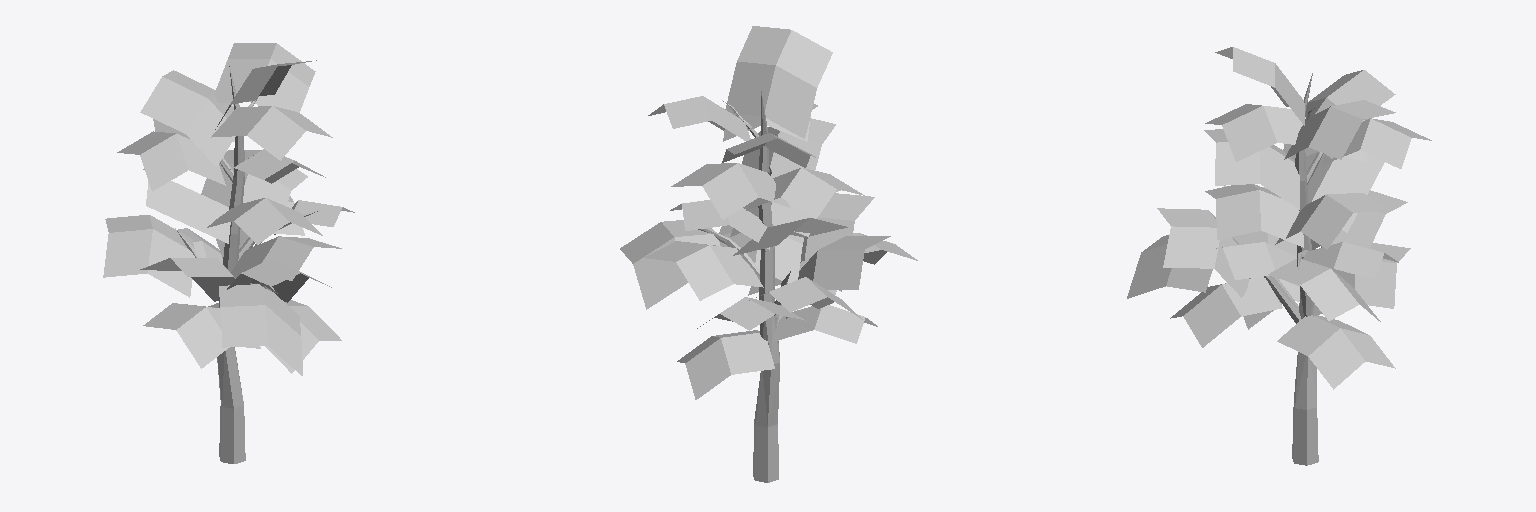
File: tree16.obj
3 views of the same model, side by side, from view 1: azimuth 30°, elevation 25°; view 2: azimuth 150°, elevation 25°; view 3: azimuth 270°, elevation 25° (orthographic).
Parts seen in each view (by area): view 1: treeDark4:null_ pasted__pasted__group53 pasted__group54 group55; view 2: treeDark4:null_ pasted__pasted__group53 pasted__group54 group55; view 3: treeDark4:null_ pasted__pasted__group53 pasted__group54 group55.
Part boxes in pixels (x1,y1,x2,y2): treeDark4:null_ pasted__pasted__group53 pasted__group54 group55: (103, 43, 354, 463); treeDark4:null_ pasted__pasted__group53 pasted__group54 group55: (620, 26, 917, 482); treeDark4:null_ pasted__pasted__group53 pasted__group54 group55: (1127, 47, 1431, 465).
Bounding box in the file's own units: 48.08 × 77.49 × 51.58.